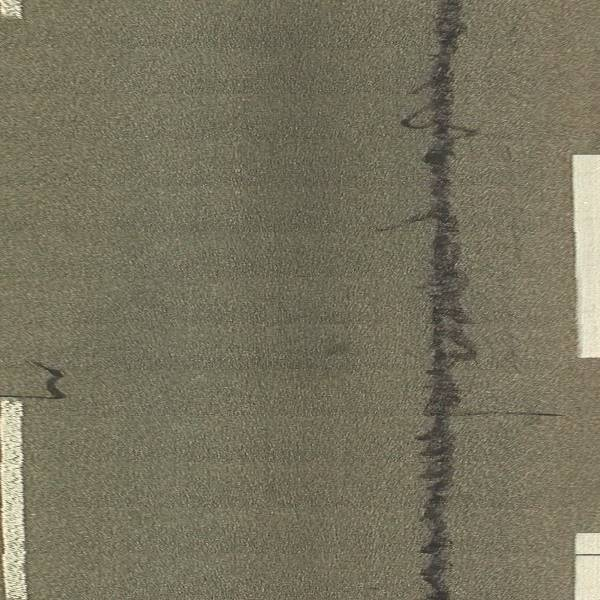road_damage: (391, 3, 485, 600), (21, 357, 72, 402)
